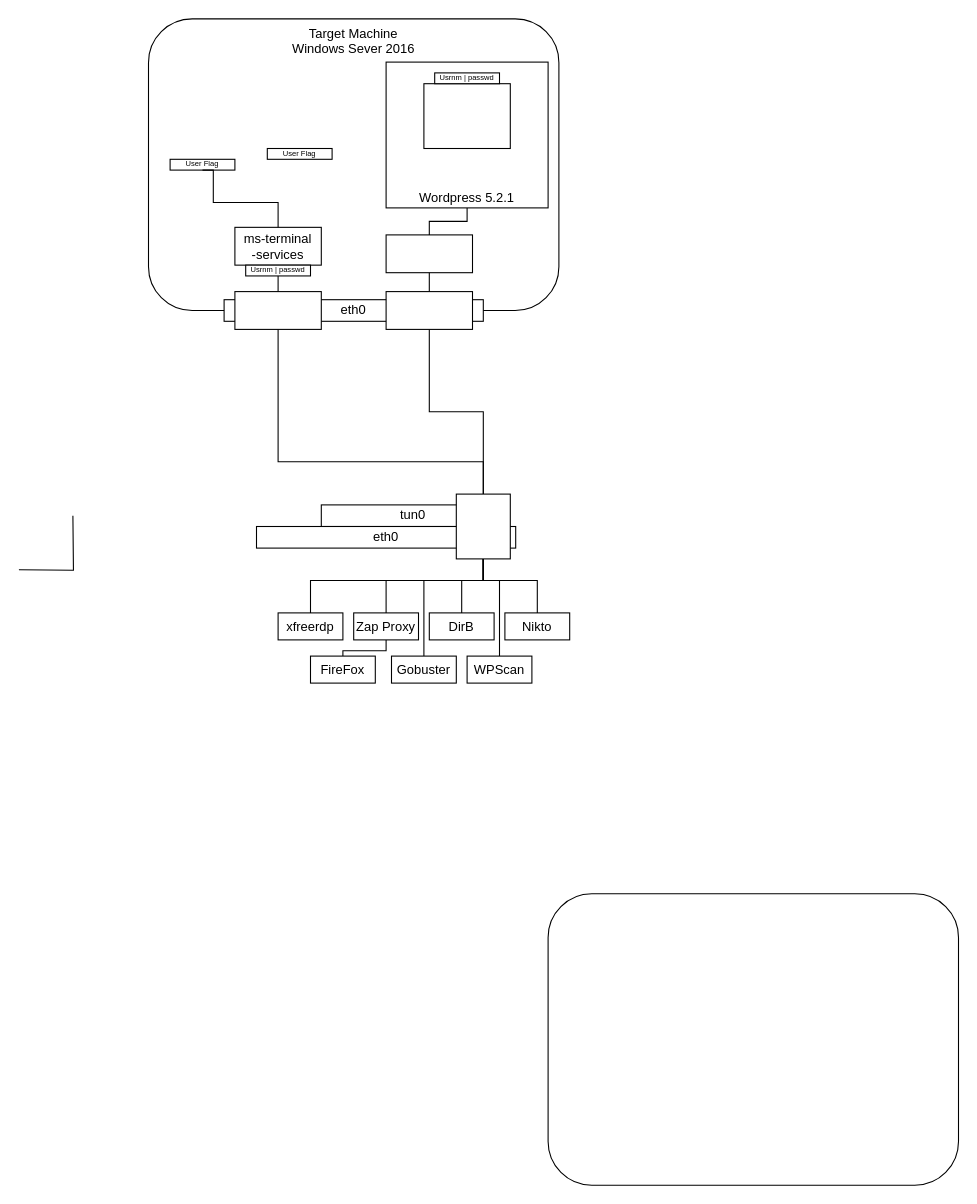
The diagram is 977 pixels wide and 1204 high, and some of its shapes have lost their labels. Here are the shapes that lost their labels. From the top down, the centre of each, then its label:
At (x=466, y=115): "Sensitive Info on unlinked but open access pages".
At (x=429, y=253): "IIS 10.0".
At (x=277, y=310): "3389/tcp".
At (x=429, y=310): "80/tcp".
At (x=482, y=526): "10k+/tcp".
At (x=753, y=1039): "Attack Box Linux | Debian".
